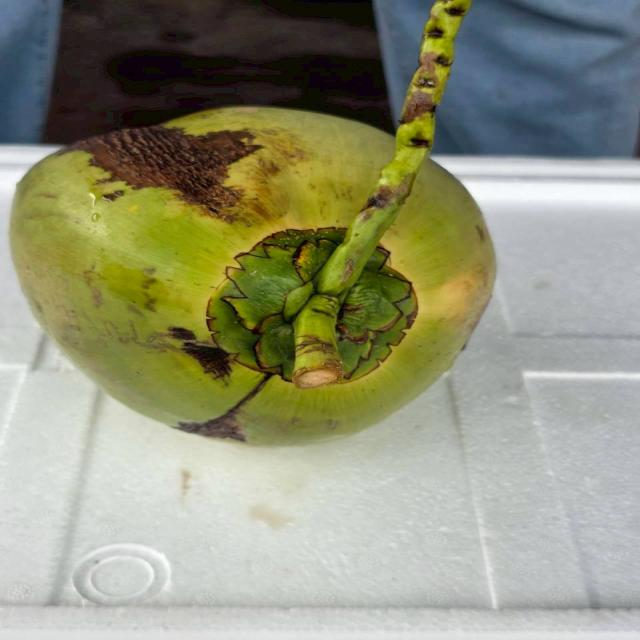coco_1.5: (148, 206, 486, 412)
